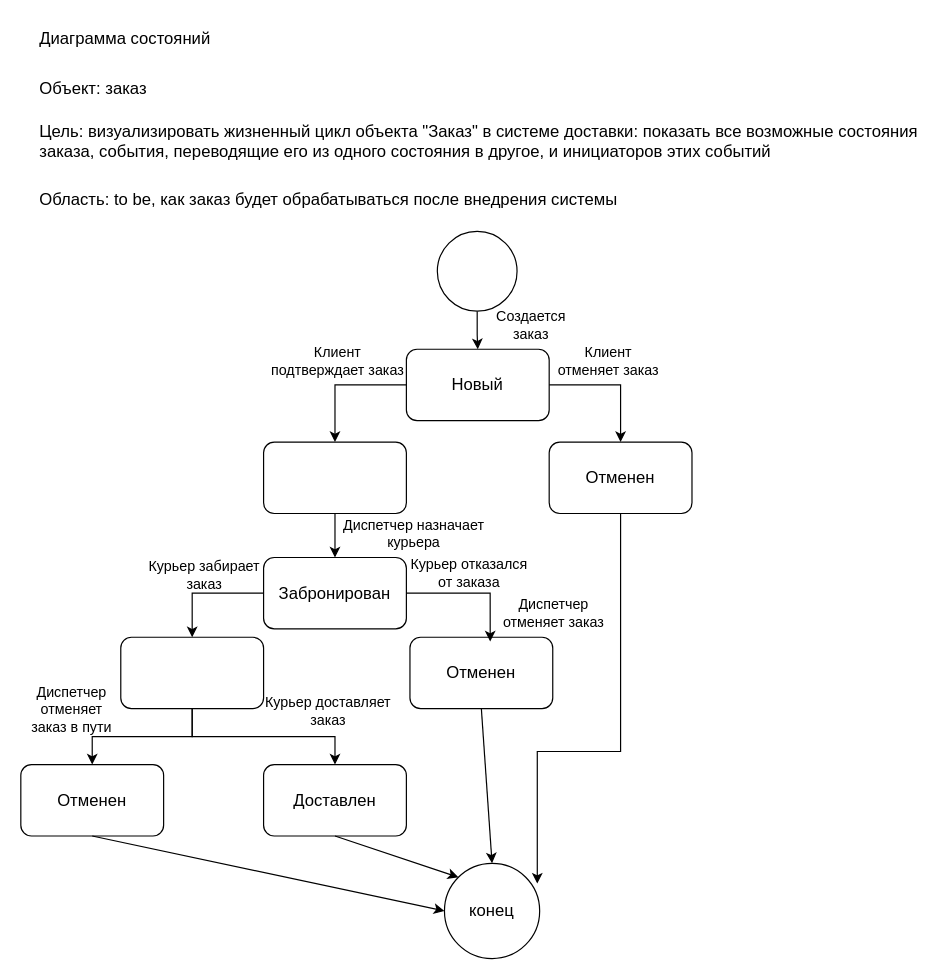
Some shapes in this 945 by 979 pixel diagram are drawn without their labels. The shapes that lost their labels are listed below. From the top down, each one's centre as x and y in pixels, then its label:
(476,270): начало
(334,477): Подтвержден
(192,672): В пути
